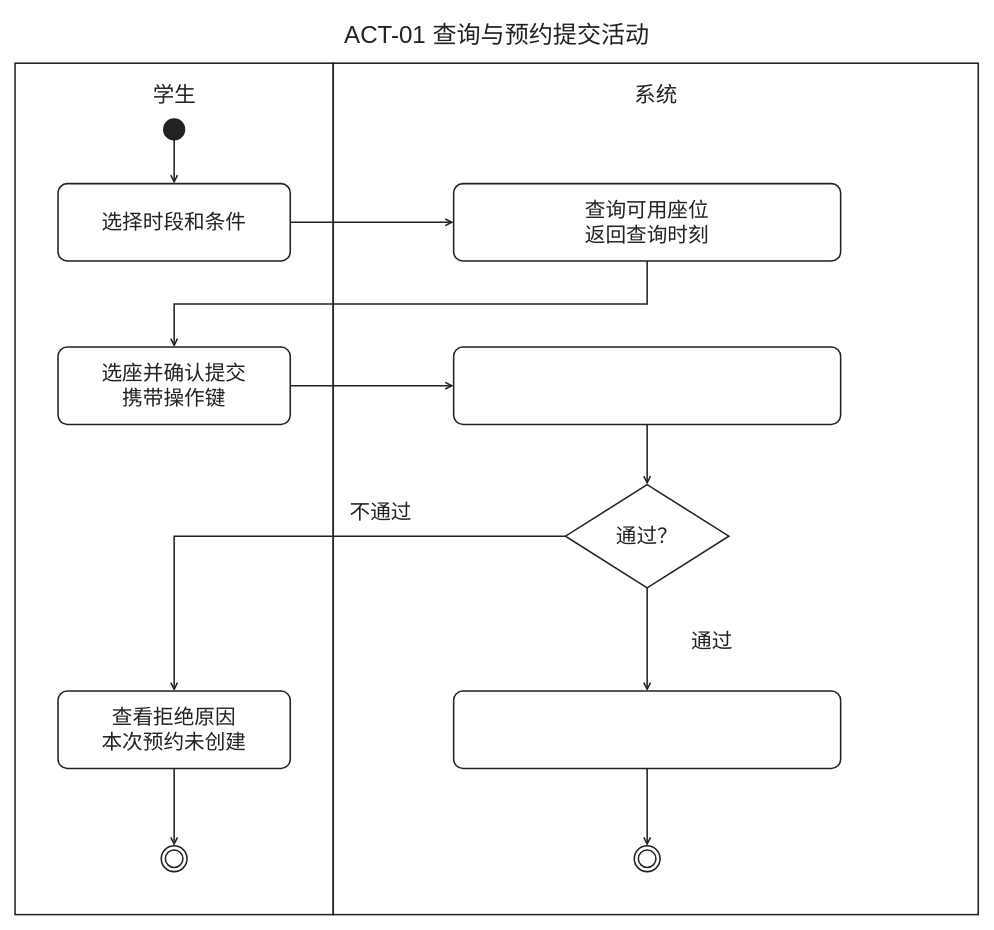
Some shapes in this 994 by 930 pixel diagram are drawn without their labels. Here are the shapes that lost their labels. From the top down, the centre of each, then its label:
At point 646,385: "提交时重新核验 权限、开放、互斥、额度、必要设施".
At point 646,729: "整体创建预约和审计 返回预约编号".
